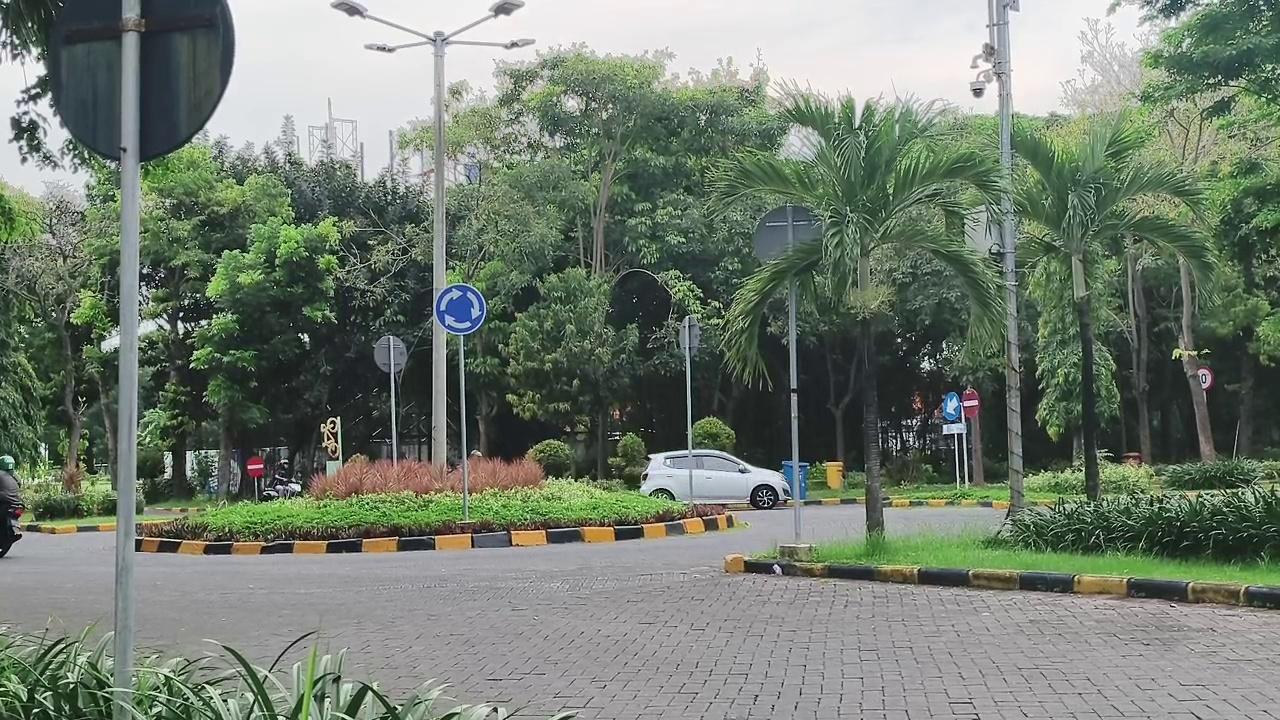Helmet: (0, 455, 21, 517)
Motor: (0, 504, 24, 557), (261, 476, 302, 500)
